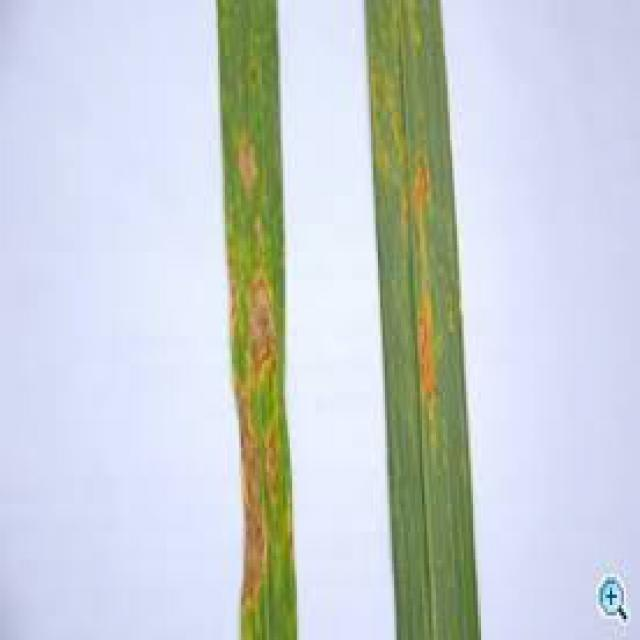wheat-septoria: (362, 0, 482, 640), (213, 0, 301, 640)
